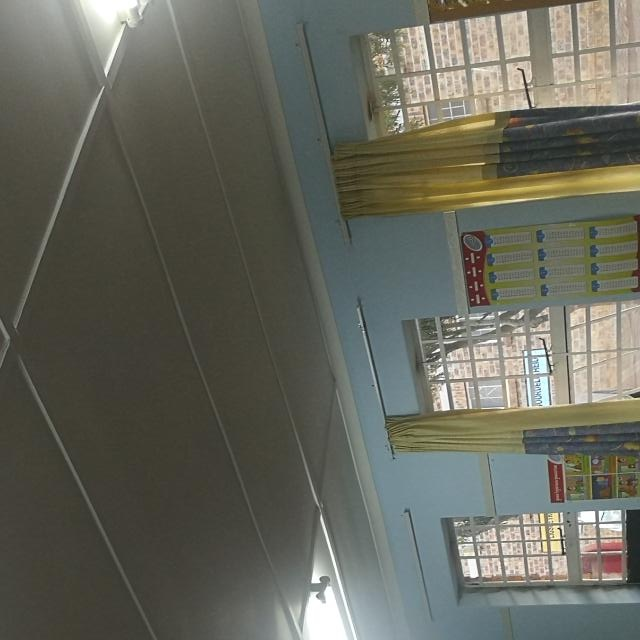fluorescent tube: (278, 564, 407, 640), (78, 0, 166, 82)
